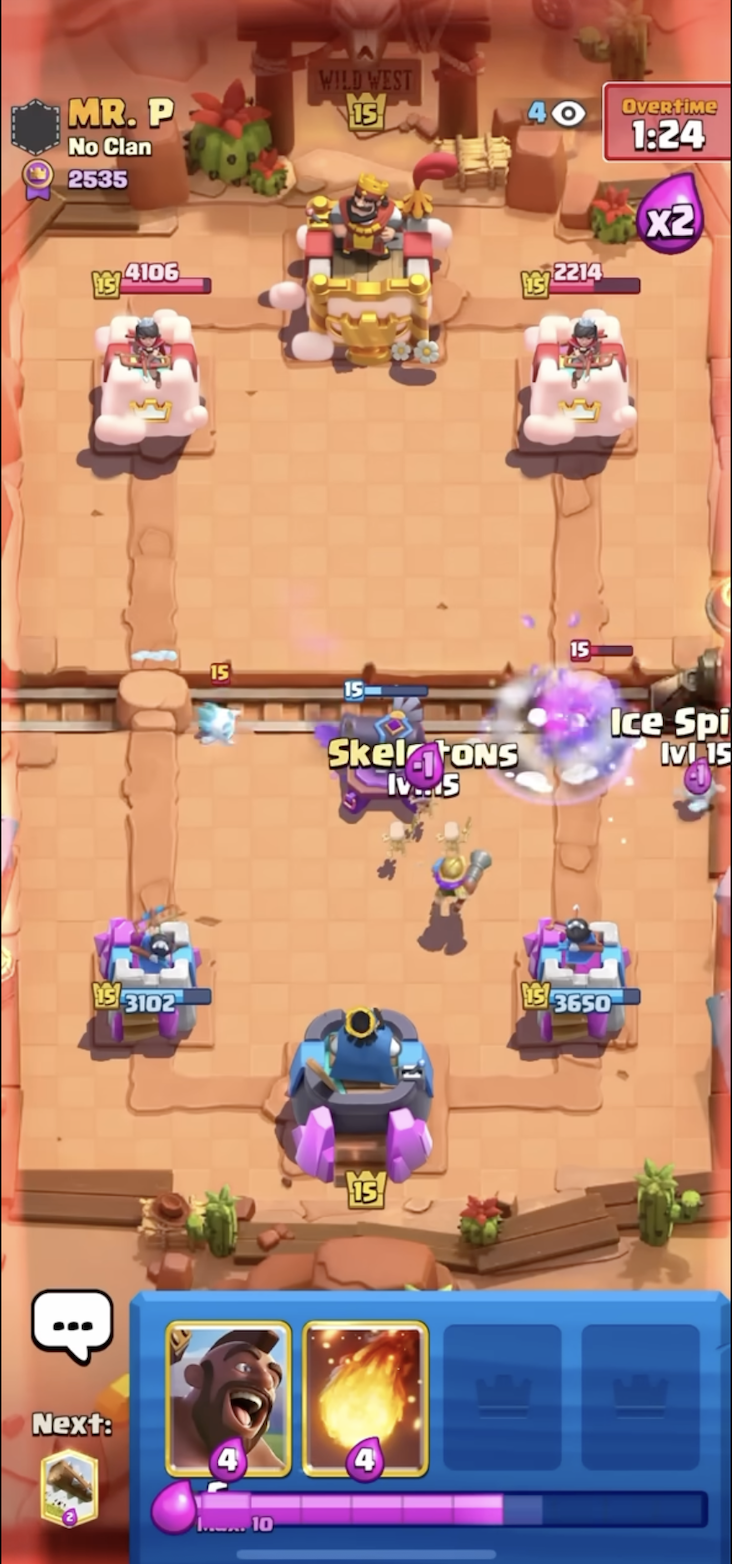evo-cannon: (320, 677, 452, 828)
musketeer: (410, 840, 498, 935)
